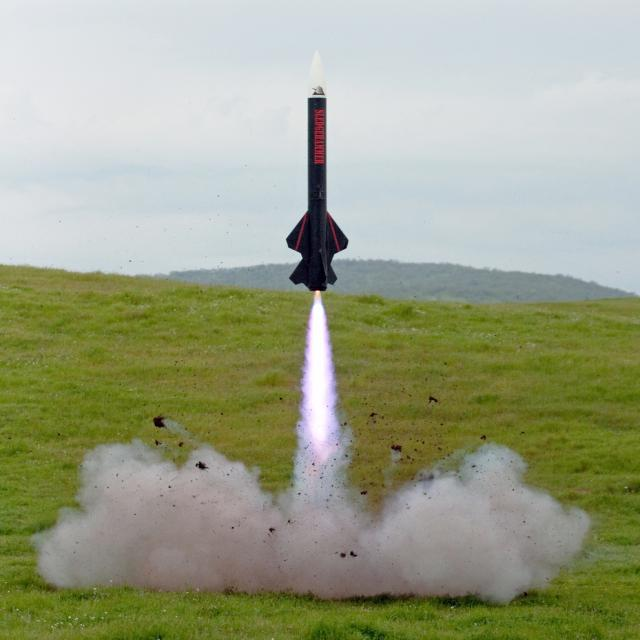rocket: (301, 78, 343, 422)
